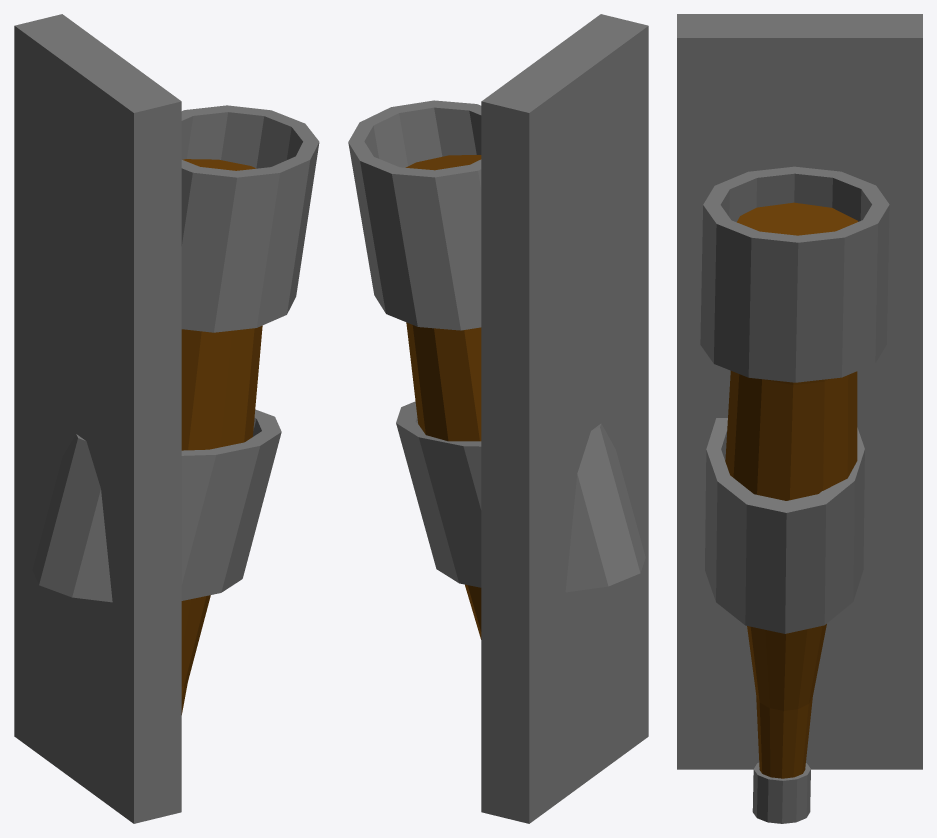
Rendered from torch1.glb.
The picture shows the model from 3 angles, left to right: view 1: azimuth 30°, elevation 25°; view 2: azimuth 150°, elevation 25°; view 3: azimuth 270°, elevation 25°; orthographic projection. The views are drawn at different scales.
Visible parts, largest first — view 1: Cube, Cylinder.002, Cylinder, Cylinder.001; view 2: Cube, Cylinder.002, Cylinder, Cylinder.001; view 3: Cube, Cylinder.002, Cylinder.001, Cylinder, Cylinder.003.
Boxes of the visible parts, <box> form: Cube: <box>14,14,181,823</box>; Cylinder.002: <box>181,105,319,332</box>; Cylinder: <box>32,409,281,602</box>; Cylinder.001: <box>181,159,262,714</box>; Cube: <box>481,14,648,823</box>; Cylinder.002: <box>348,100,481,330</box>; Cylinder: <box>396,401,645,592</box>; Cylinder.001: <box>405,155,481,639</box>; Cube: <box>677,14,922,769</box>; Cylinder.002: <box>700,166,889,382</box>; Cylinder.001: <box>725,202,858,778</box>; Cylinder: <box>705,418,864,633</box>; Cylinder.003: <box>752,762,810,823</box>.
Bounding box in the file's own units: 0.2352 × 0.6123 × 0.1778.
